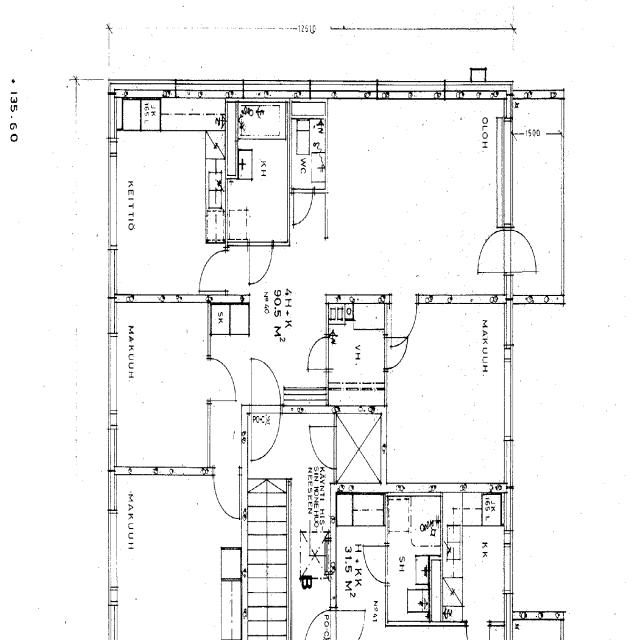door: (253, 359, 280, 415), (253, 405, 280, 460), (478, 230, 512, 272), (504, 230, 538, 272), (391, 294, 416, 345), (214, 466, 239, 516), (208, 358, 235, 400), (202, 251, 228, 290), (249, 242, 272, 282), (383, 336, 406, 369), (307, 337, 328, 368), (294, 189, 312, 224)
